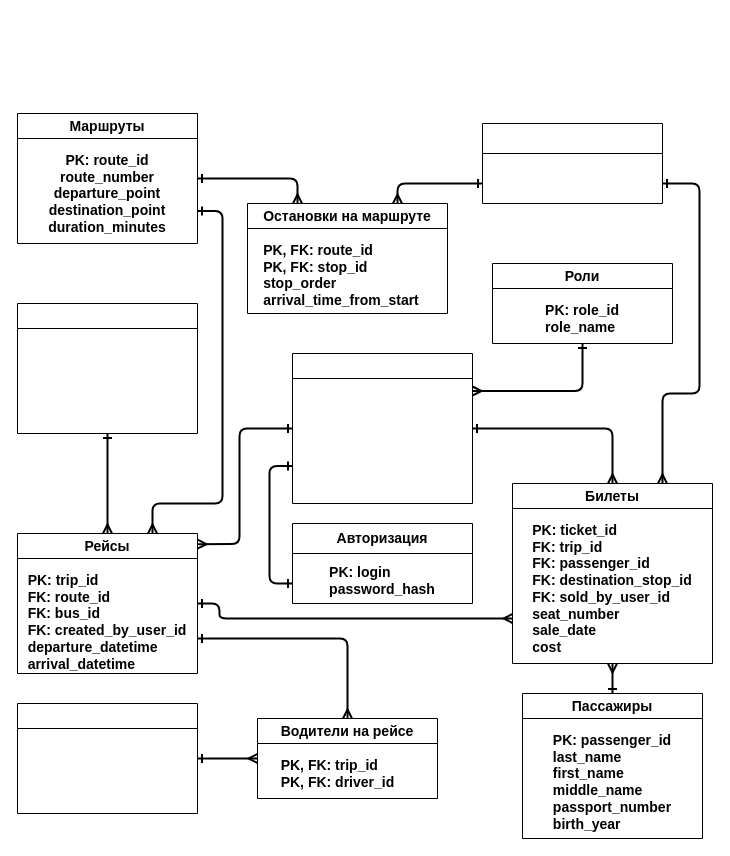
The diagram is 730 pixels wide and 856 high, and some of its shapes have lost their labels. The shapes that lost their labels are listed below. From the top down, each one's centre as x and y in pixels, then its label:
At point (572, 163): "Остановки PK: stop_id name".
At point (107, 368): "Автобусы PK: bus_id license_plate model seat_capacity bus_image".
At point (382, 428): "Сотрудники PK: user_id FK: role_id last_name first_name middle_name FK: login".
At point (107, 758): "Водители PK: driver_id last_name first_name middle_name".
